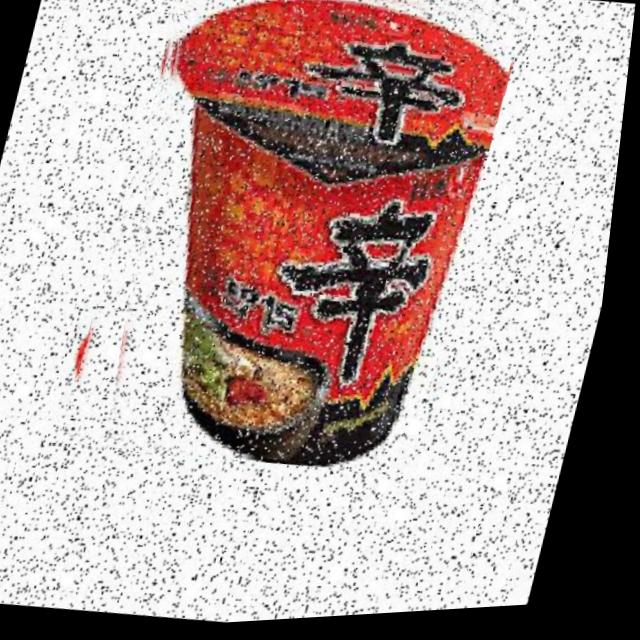Miscellaneous: (66, 0, 530, 497)
